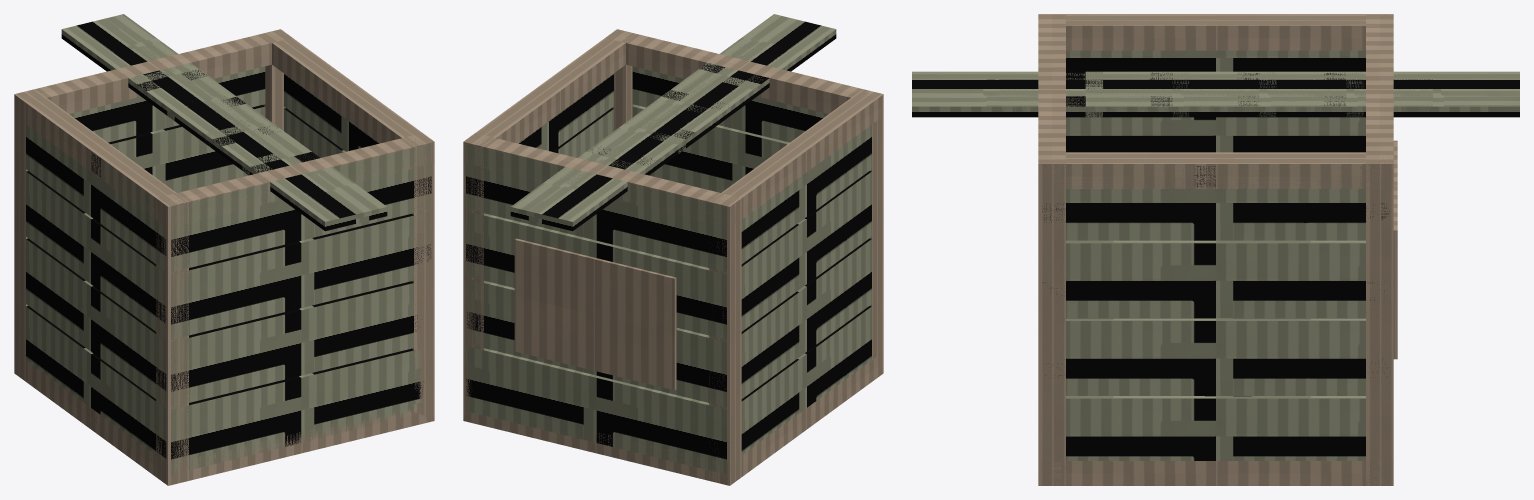
File: crate_09.glb
The picture shows the model from 3 angles, left to right: view 1: azimuth 30°, elevation 25°; view 2: azimuth 150°, elevation 25°; view 3: azimuth 270°, elevation 25°; orthographic projection. The views are drawn at different scales.
Parts seen in each view (by area): view 1: crate_09; view 2: crate_09; view 3: crate_09.
Boxes of the visible parts, x1,y1,x2,y2 form: crate_09: (14,14,434,485); crate_09: (463,14,883,485); crate_09: (912,14,1519,485).
Bounding box in the file's own units: 0.9 × 0.9 × 1.54.
Materials: 2 (2 with a texture image).
